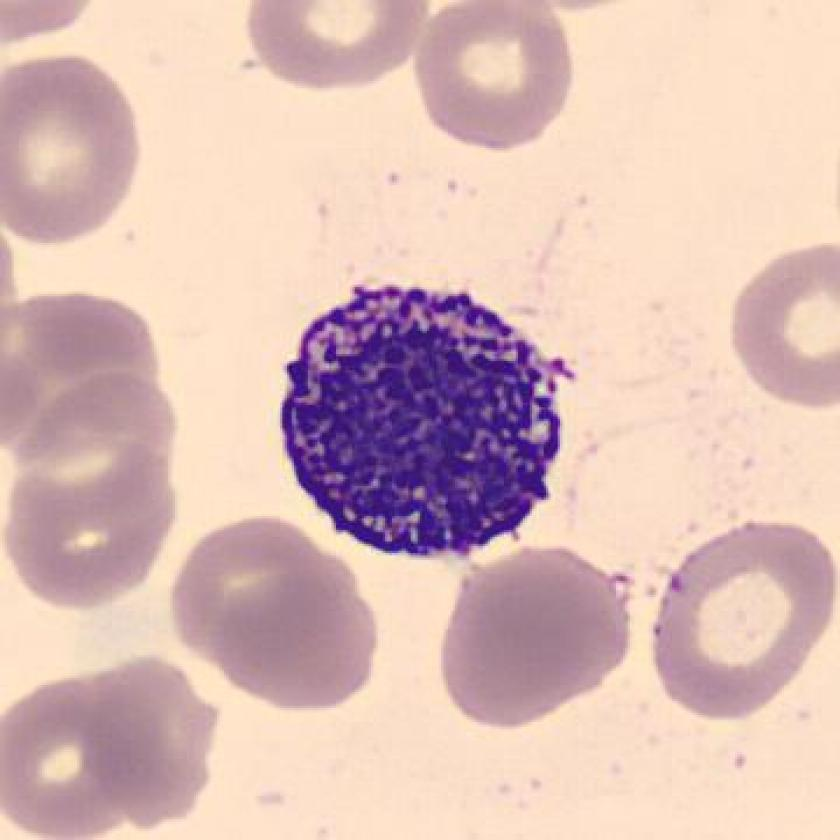basophil: (267, 263, 596, 557)
